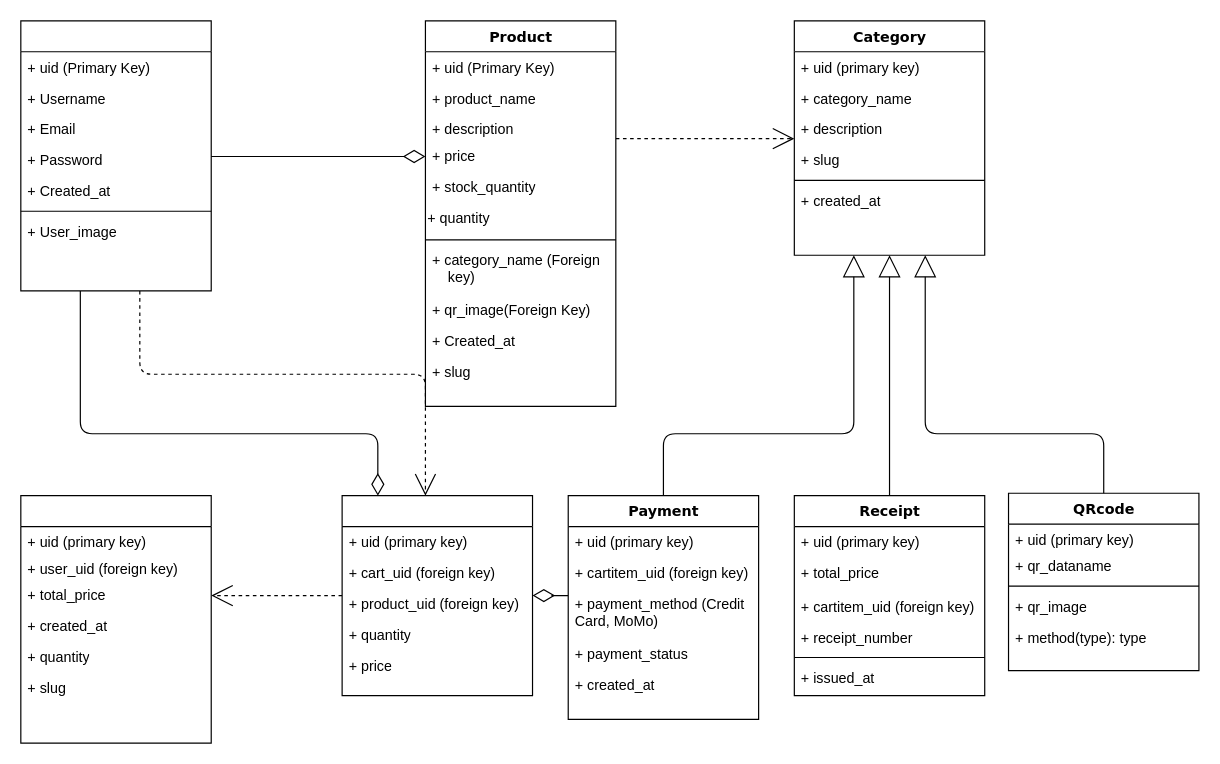
Image size: 1220x764. Some labels were removed from this diagram. Each missing label, with the box of its shape:
Cart: (20, 494, 211, 743)
CartItem: (341, 494, 533, 696)
Users: (20, 20, 211, 291)
